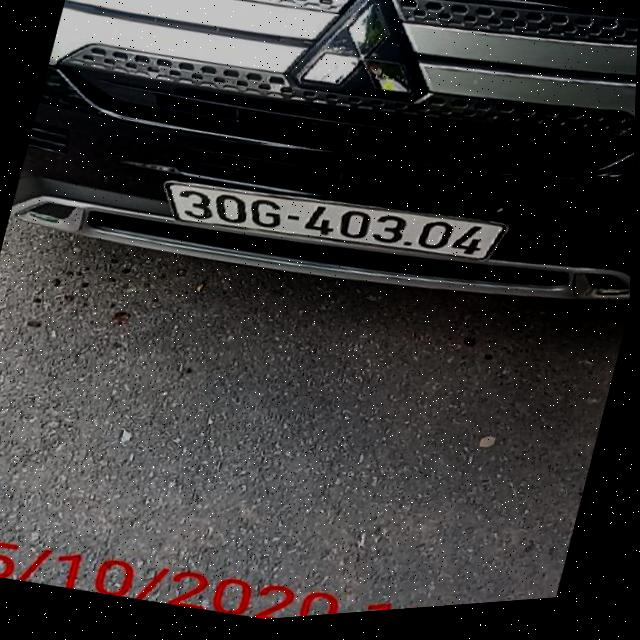car: (0, 0, 640, 385)
plate: (144, 141, 515, 303)
